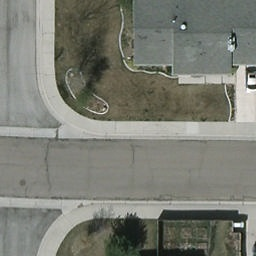car: (245, 66, 256, 93)
